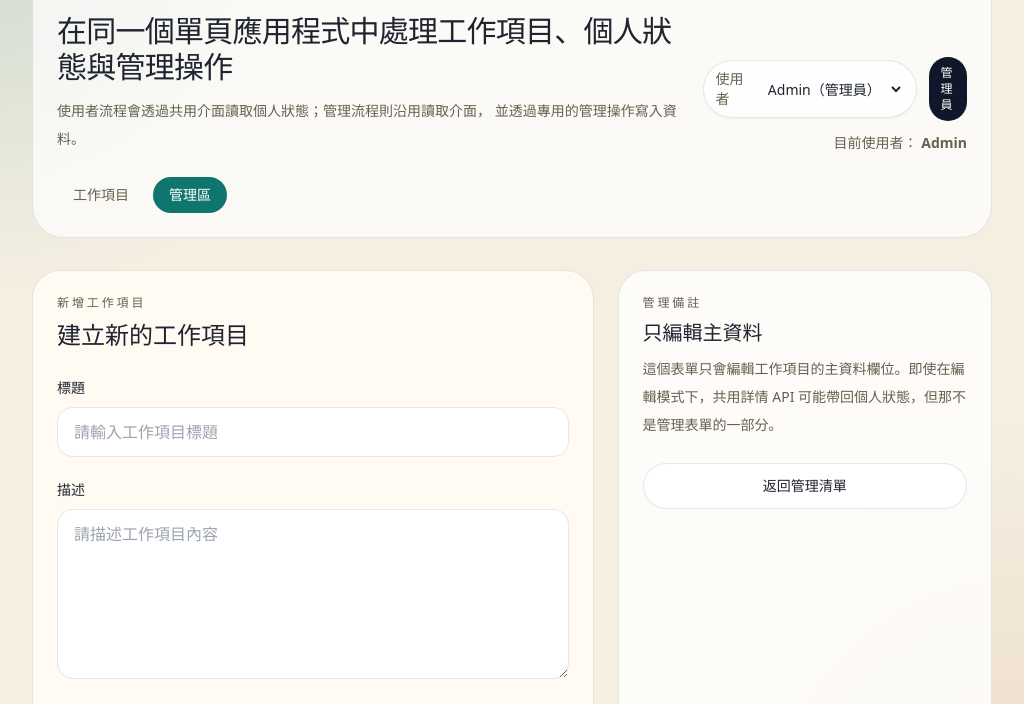
Test: AdminWorkItemFormPage › AdminWorkItemCreatePage_WhenSubmitSucceeds_NavigatesBackToAdminList
Type "Created Item" into the field labelled "標題" at (313, 432), box [57,407,569,457]
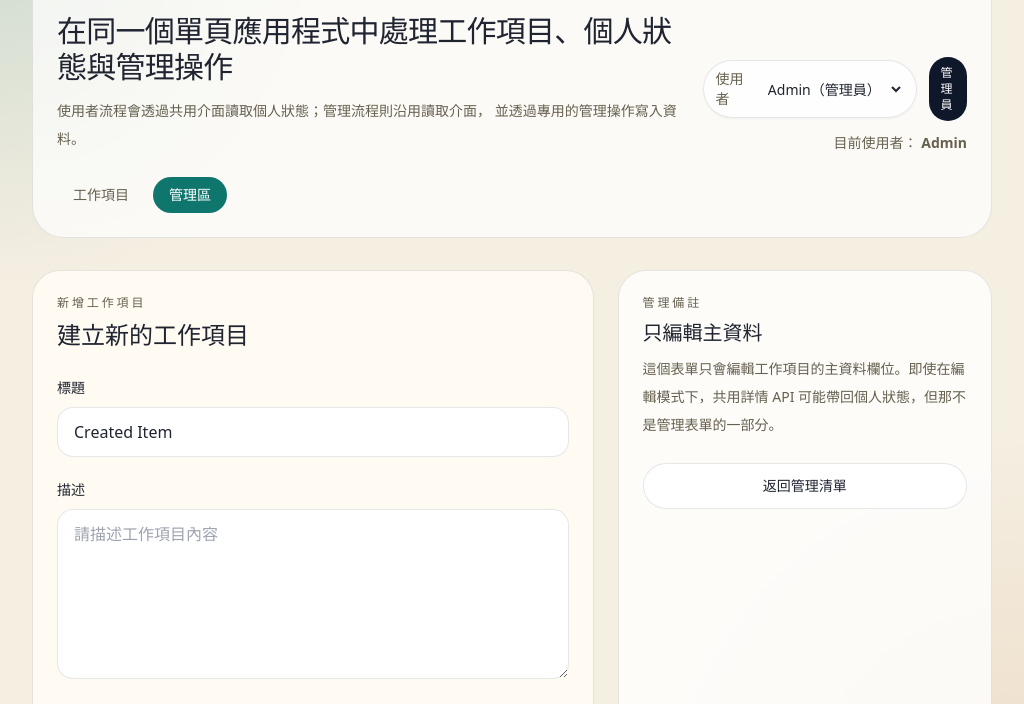
Type "Created body" into the text box labelled "描述" at (313, 594), box [57,509,569,679]
(page scrolled)
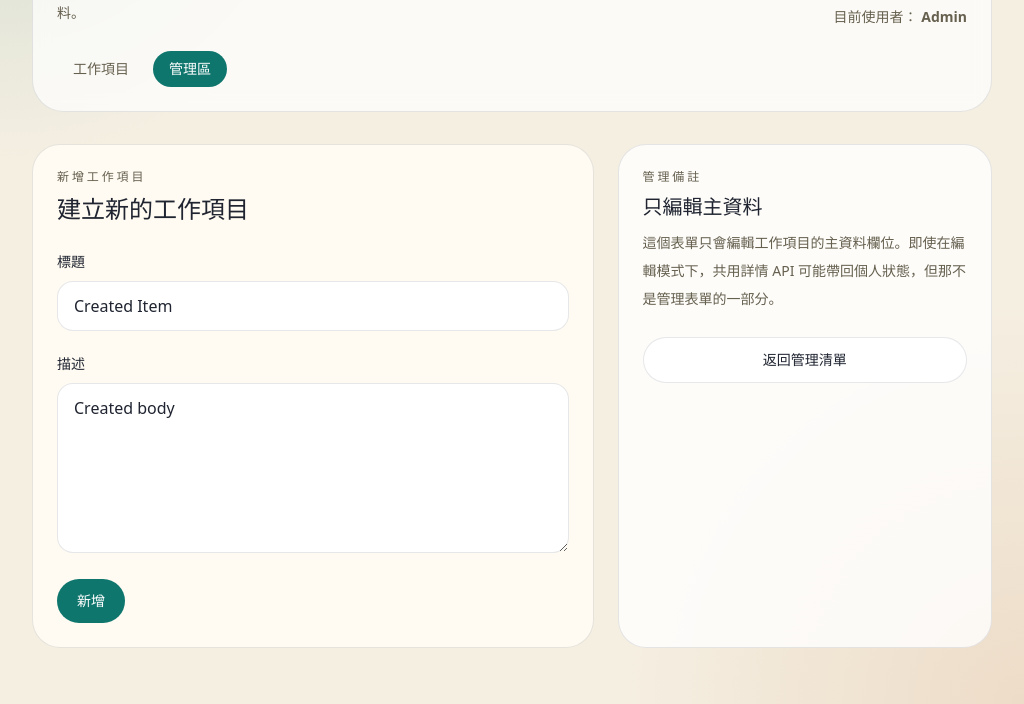
Click the button "新增" at (91, 601), box [57,579,125,623]
(page scrolled)
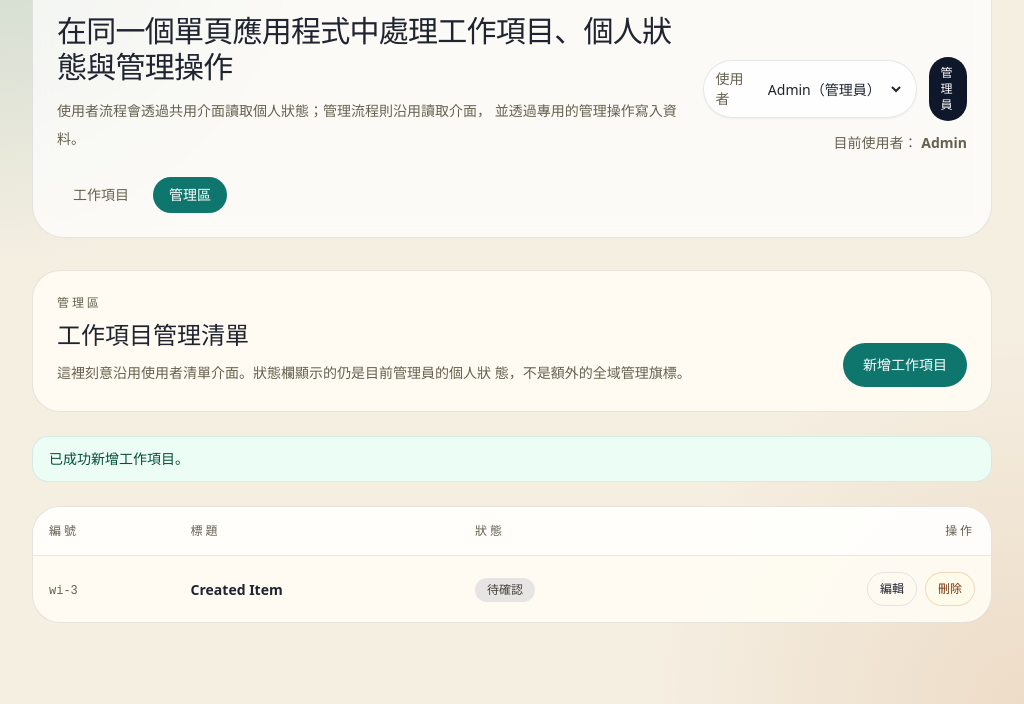
Expected: the text "已成功新增工作項目。" is shown, [32,436,992,482]
Expected: the heading "工作項目管理清單" is shown, [57,318,249,351]
Expected: the text "Created Item" is shown, [191,580,283,599]
